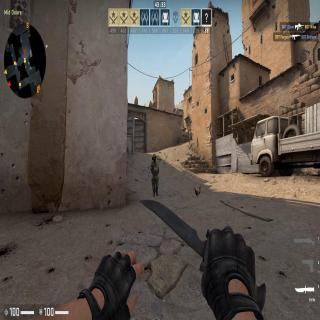CT-Body: (150, 153, 160, 196)
CT-Head: (152, 154, 157, 162)
